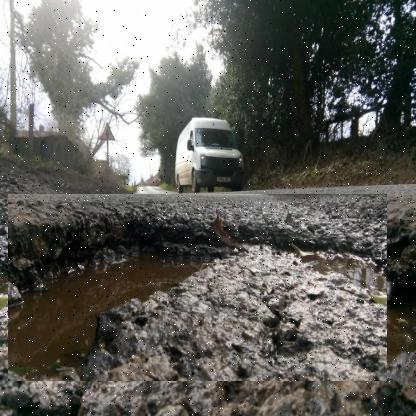pothole: (9, 194, 388, 382)
